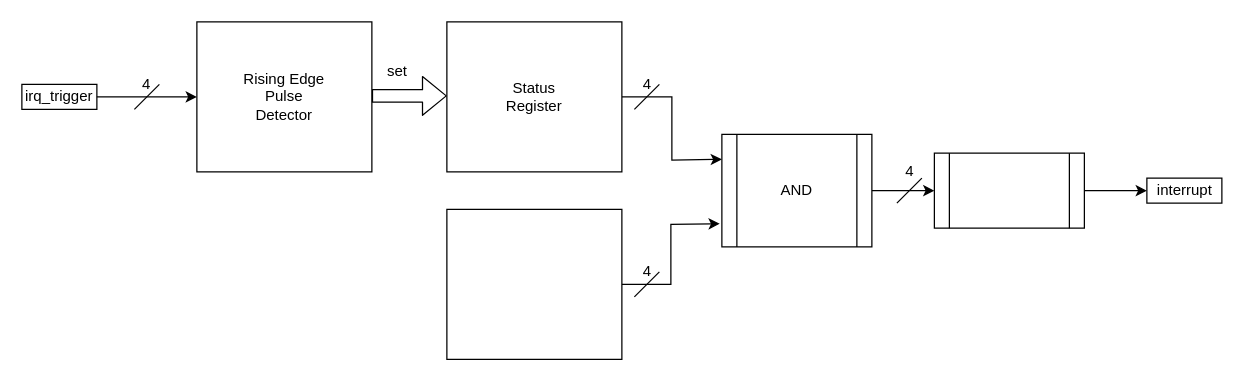
This 1244x381 diagram has some shape labels left out. Here are the shapes that lost their labels. From the top down, the centre of each, then its label:
At (1008,190): "AND ON BITS".
At (534,283): "Mask Register".
